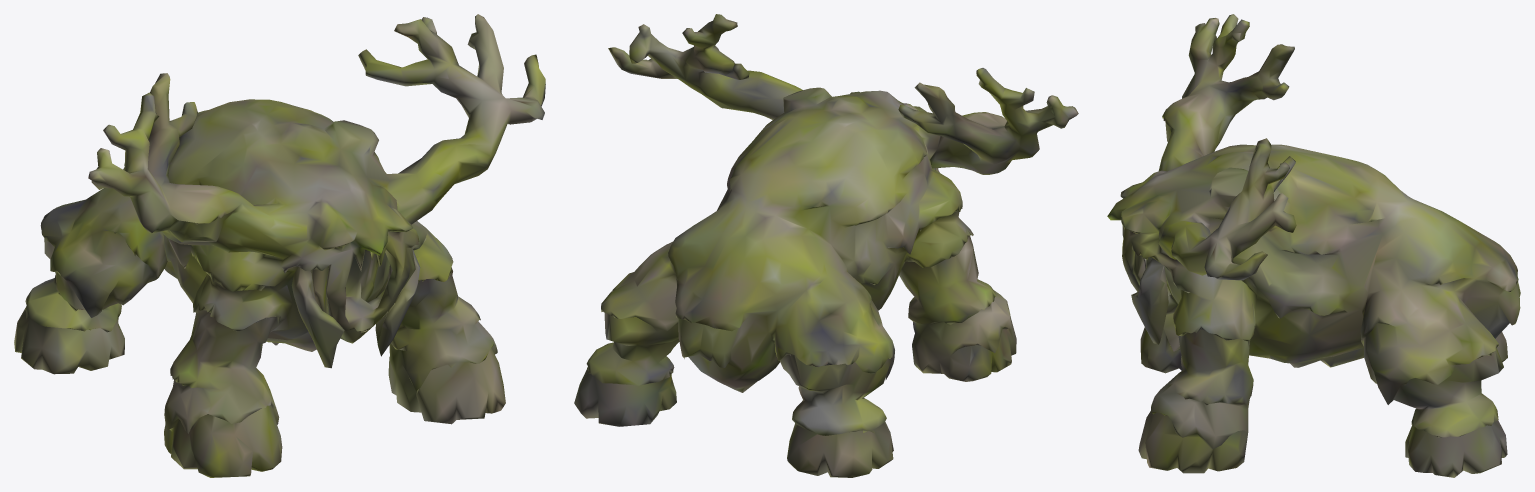
The model's file is Moosschlund_game.glb.
3 views of the same model, side by side, from view 1: azimuth 30°, elevation 25°; view 2: azimuth 150°, elevation 25°; view 3: azimuth 270°, elevation 25° (orthographic). The views are drawn at different scales.
Parts seen in each view (by area): view 1: Moosschlund; view 2: Moosschlund; view 3: Moosschlund.
Part boxes in pixels (box(x1,y1,x2,y2)): Moosschlund: box(14, 14, 545, 477); Moosschlund: box(574, 14, 1078, 477); Moosschlund: box(1107, 14, 1520, 477).
Size of the model in its own units: 0.9925 by 0.6929 by 0.82.
